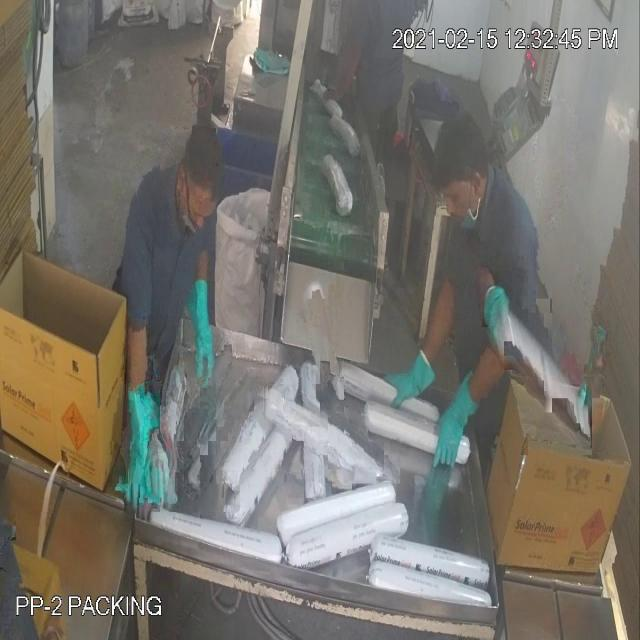Gloves: (42, 82, 453, 427)
